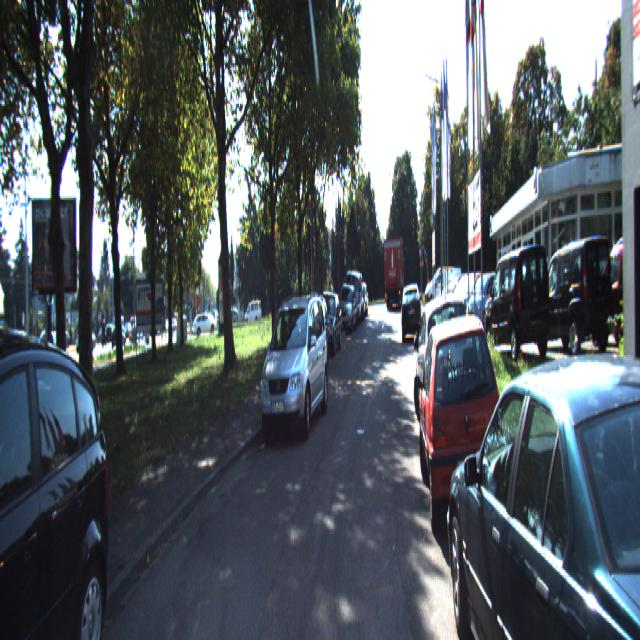Car: (442, 239, 640, 638), (0, 299, 109, 638), (417, 306, 511, 549), (534, 225, 616, 360), (258, 297, 330, 444), (415, 288, 477, 450), (483, 245, 553, 364), (582, 238, 640, 359), (311, 290, 343, 359), (383, 238, 406, 312), (400, 284, 422, 344), (336, 284, 358, 336)
